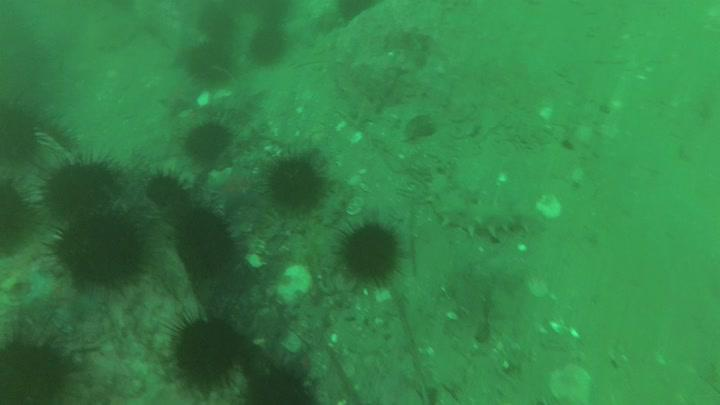urchin: (43, 201, 152, 296), (160, 309, 241, 385), (35, 146, 114, 216), (328, 213, 403, 286), (1, 334, 73, 405), (259, 145, 327, 211), (175, 202, 236, 272), (238, 369, 326, 405), (1, 175, 38, 257), (174, 113, 236, 161), (180, 38, 237, 86), (139, 163, 193, 210), (248, 20, 293, 64)
